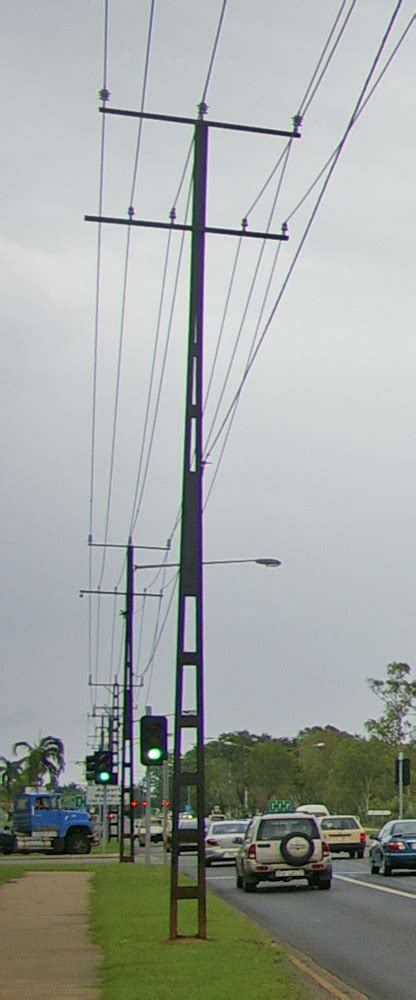pole: (66, 79, 332, 964), (75, 526, 190, 882)
